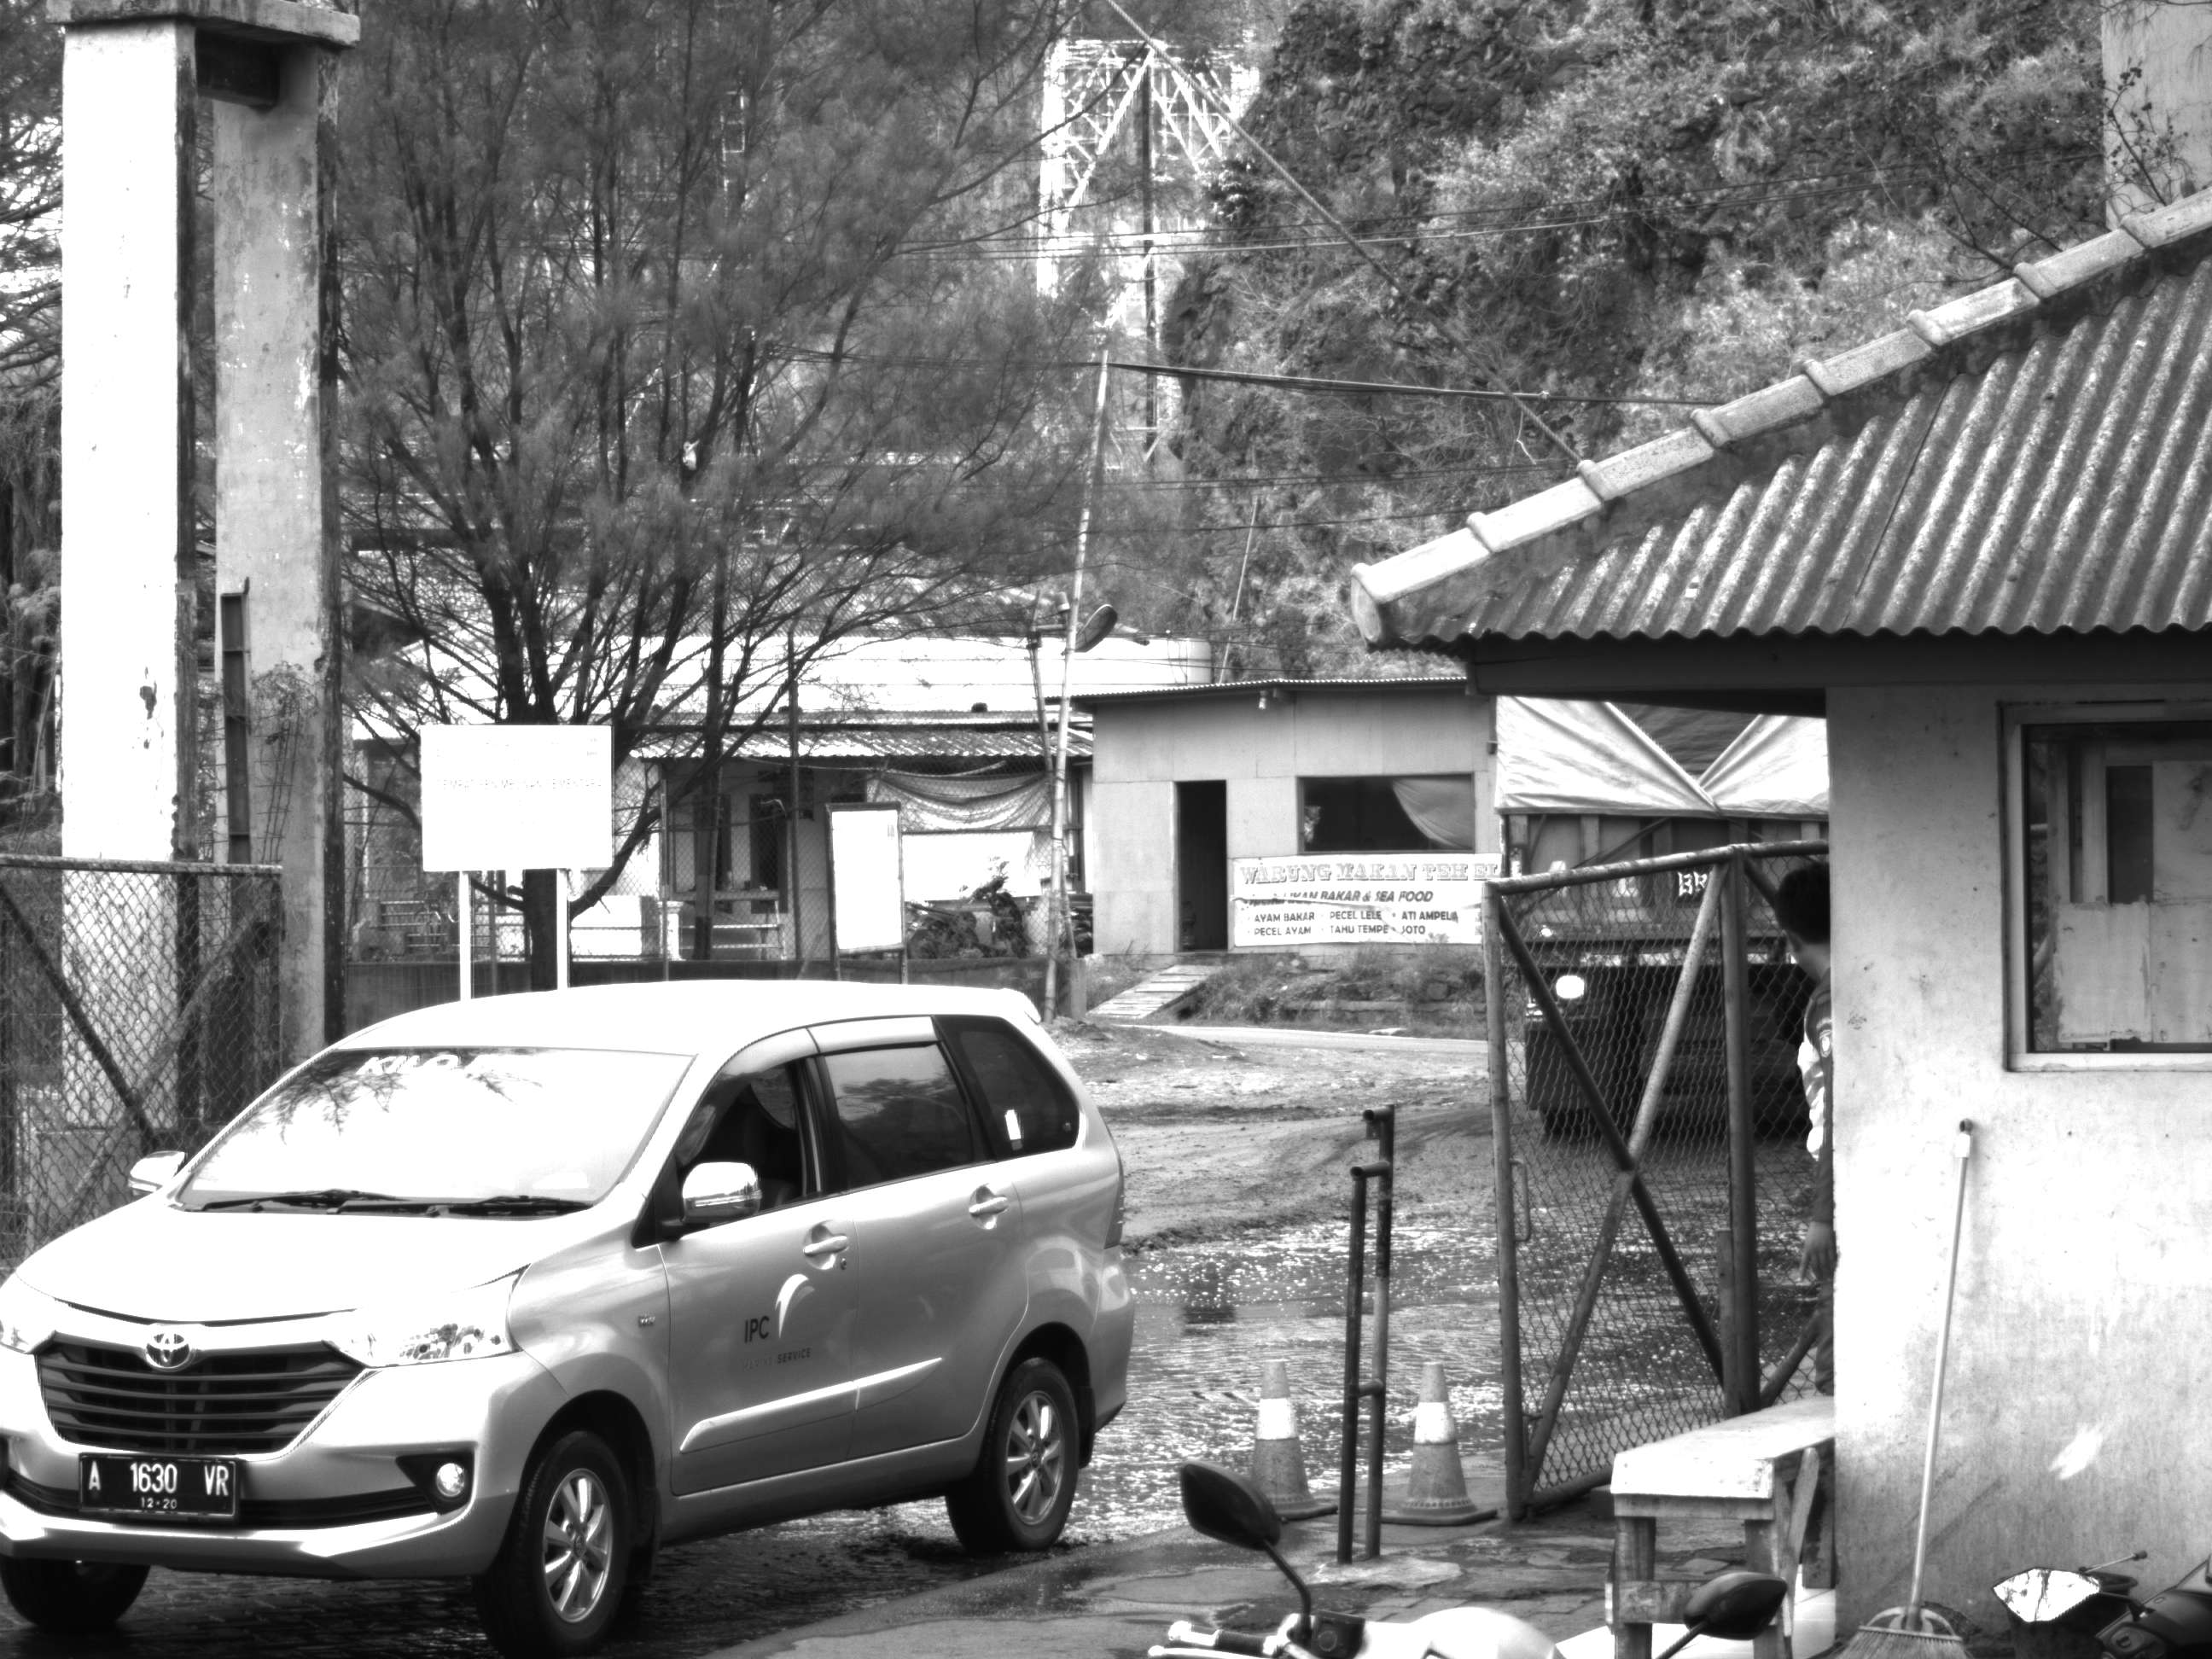day_small_front: (7, 989, 662, 1652)
plate: (73, 1445, 242, 1523)
